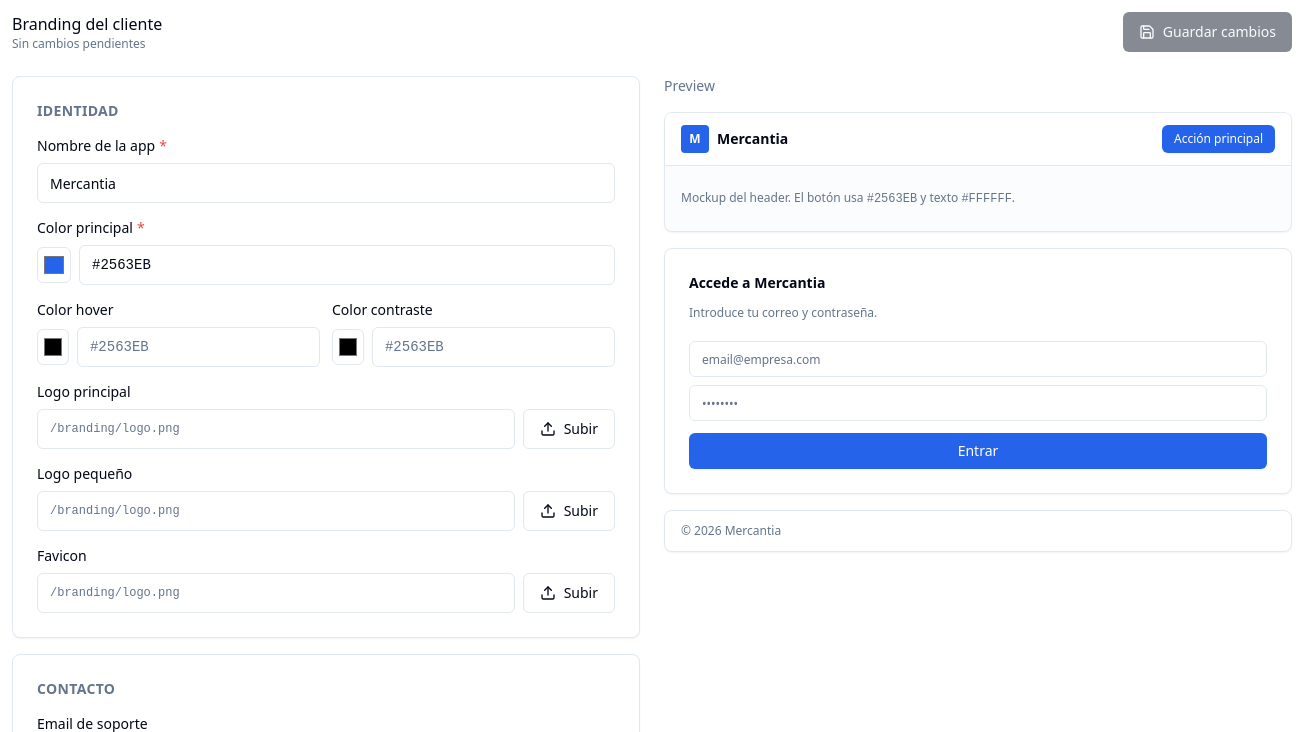
Scenario: BrandingTab › flips dirty state and enables Save when a value changes
Type "Nuevo Nombre" into the field labelled "Nombre de la app*" at coordinates (326, 183), box [37, 163, 615, 203]
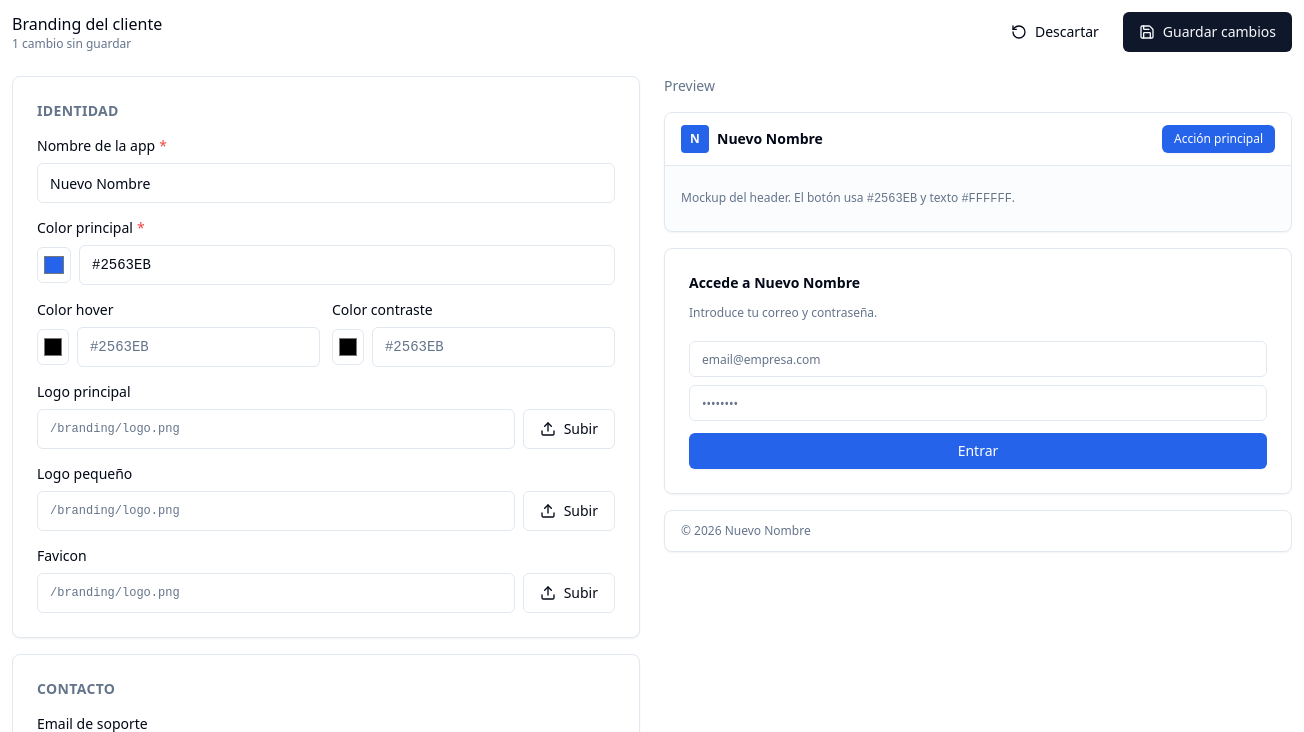
Expected: the text "1 cambio sin guardar" is shown, [12, 35, 131, 52]
Expected: the button "Guardar cambios" is enabled, [1123, 12, 1292, 52]
